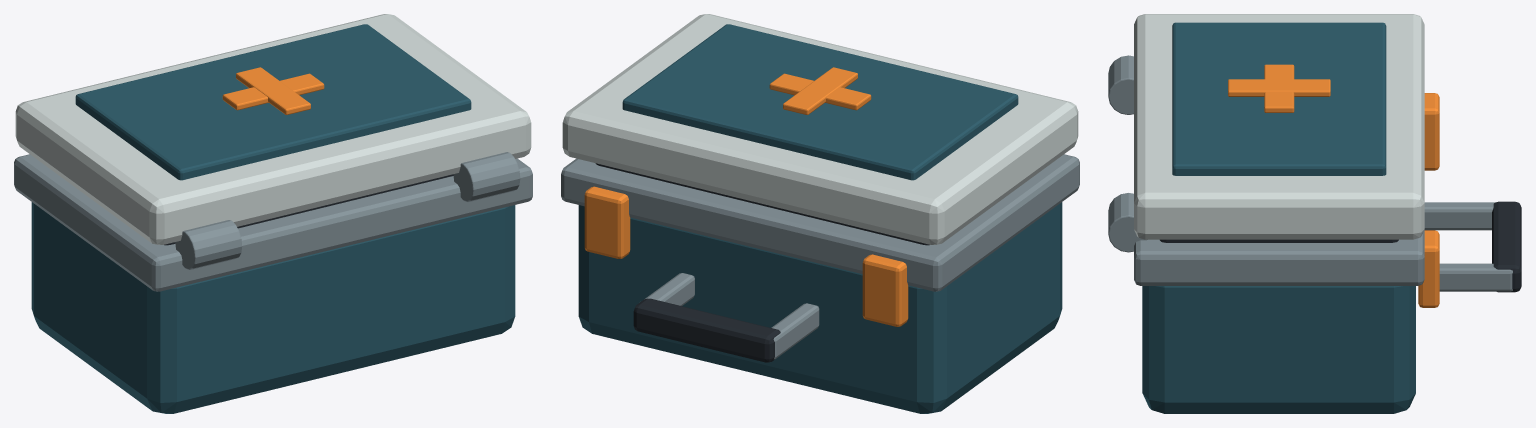
File: specimen_case.glb
3 views of the same model, side by side, from view 1: azimuth 30°, elevation 25°; view 2: azimuth 150°, elevation 25°; view 3: azimuth 270°, elevation 25° (orthographic).
Visible parts, largest first — view 1: specimen_case_mesh, case_lid_mesh; view 2: specimen_case_mesh, case_lid_mesh; view 3: case_lid_mesh, specimen_case_mesh.
Part boxes in pixels (x1,y1,x2,y2): specimen_case_mesh: (14,152,532,413); case_lid_mesh: (15,14,531,244); specimen_case_mesh: (561,154,1079,413); case_lid_mesh: (562,14,1078,244); case_lid_mesh: (1134,14,1424,239); specimen_case_mesh: (1108,55,1521,413).
Bounding box in the file's own units: 0.52 × 0.319 × 0.4835.
